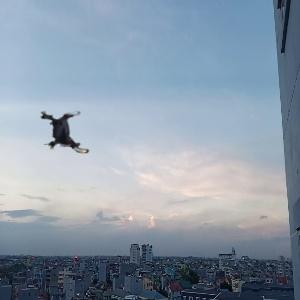drone: (38, 106, 93, 161)
